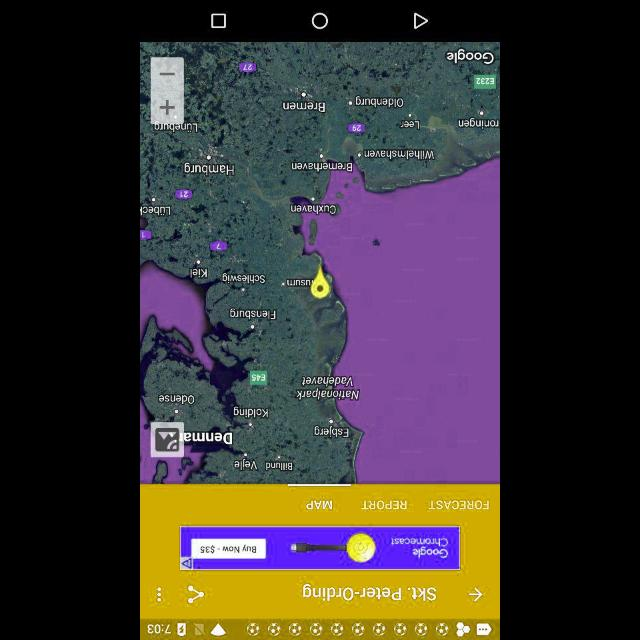icon: (184, 584, 206, 604), (468, 586, 484, 604), (413, 12, 429, 30), (312, 11, 328, 29), (211, 12, 227, 30), (154, 582, 166, 604)
iframe: (180, 526, 460, 570)
map: (140, 42, 500, 482)
multitab: (140, 483, 498, 525)
panel: (141, 2, 499, 42)
text: (302, 583, 438, 603)
toolbar: (141, 571, 499, 619)
uppertaskbar: (141, 620, 499, 640)
